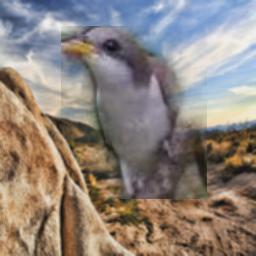Cuckoo: (61, 26, 207, 199)
